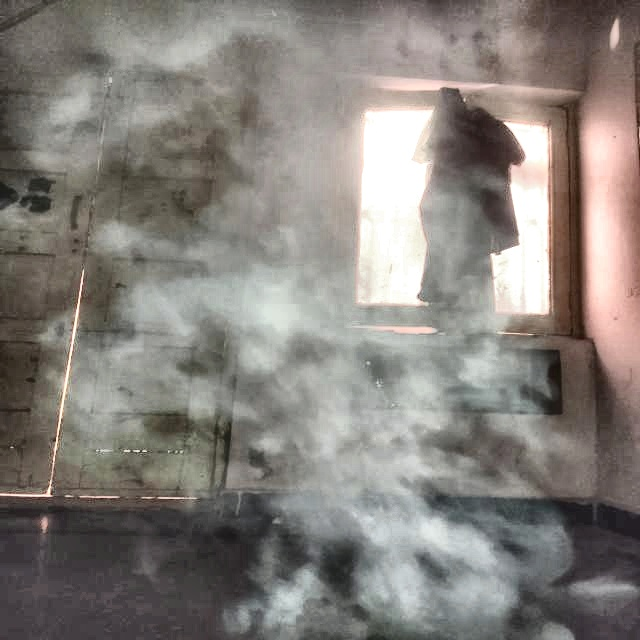smoke: (192, 242, 473, 604)
